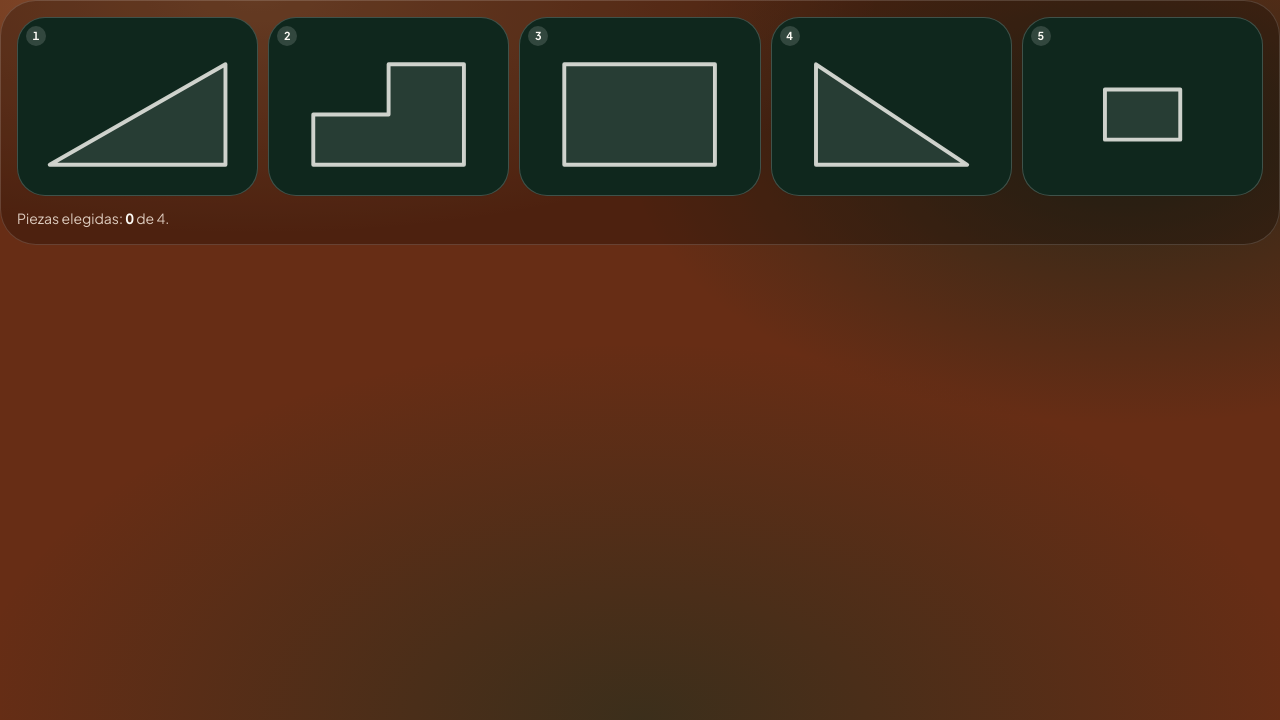
Test: PiecePicker › la respuesta sigue incompleta (null) hasta elegir exactamente 4
Click the button "5" at (1142, 107), box [1022,17,1263,196]
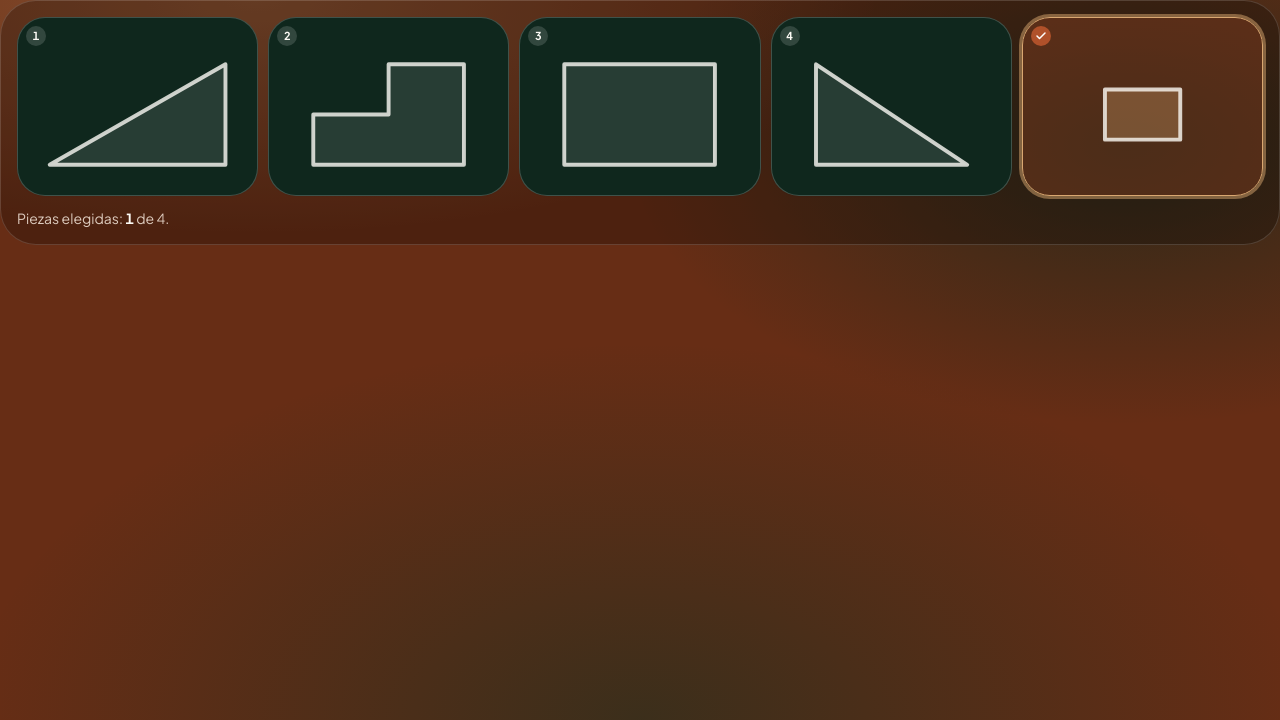
Click the button "3" at (640, 107), box [519,17,761,196]
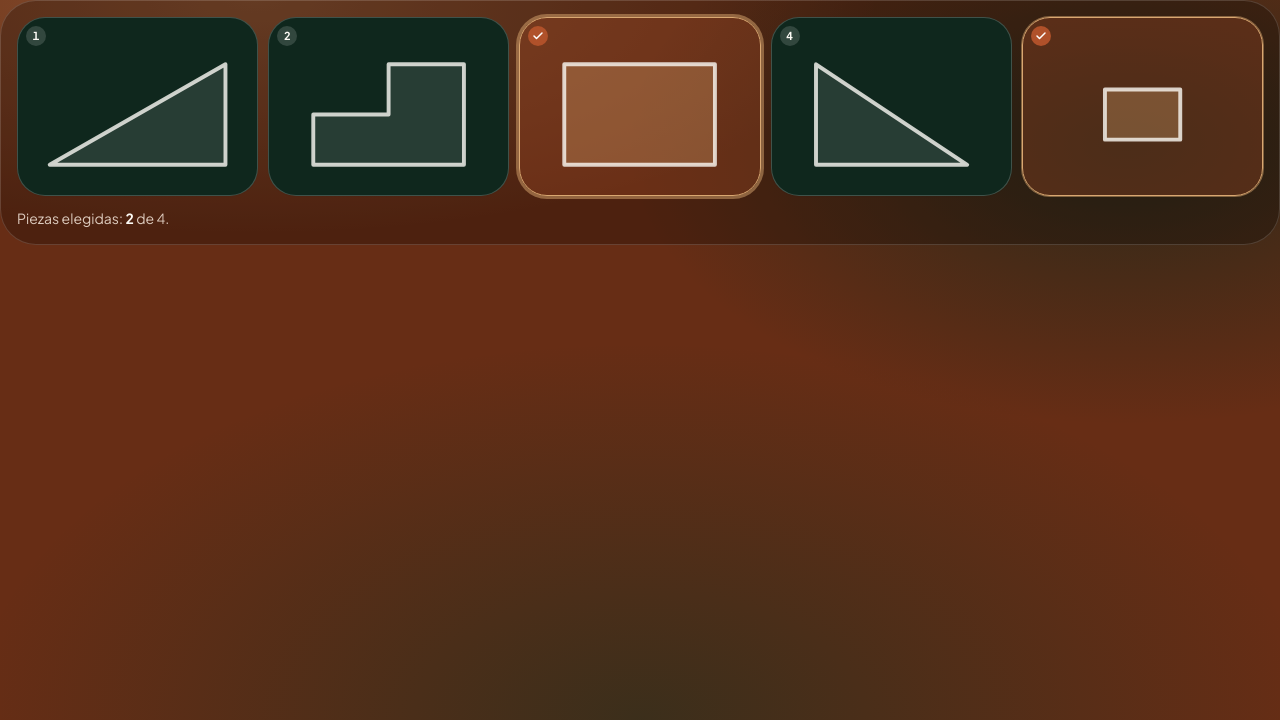
Click the button "2" at (389, 107), box [268,17,509,196]
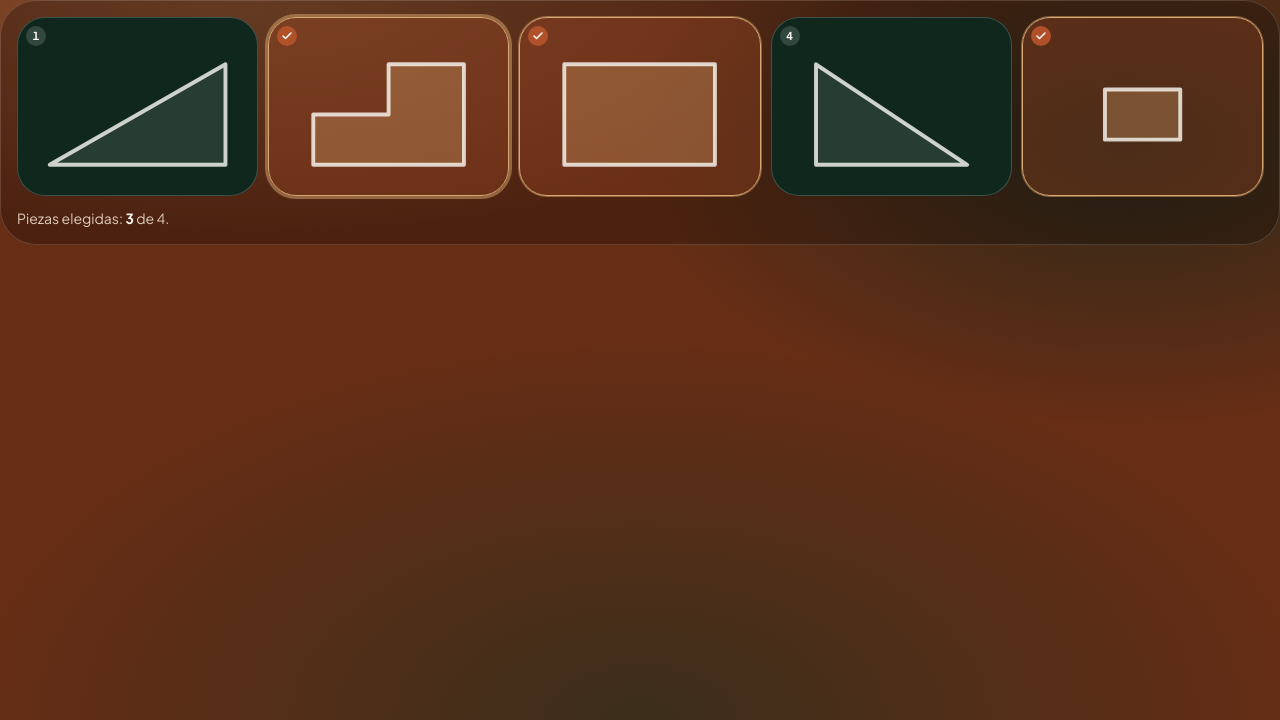
Result: the text "Piezas elegidas: 3 de 4." is shown at [17,209,169,227]
